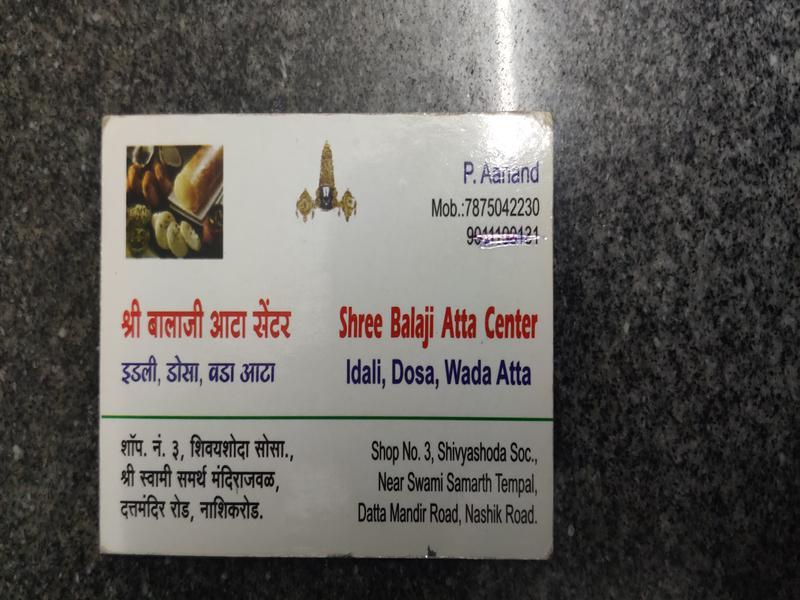card: (98, 110, 553, 561)
